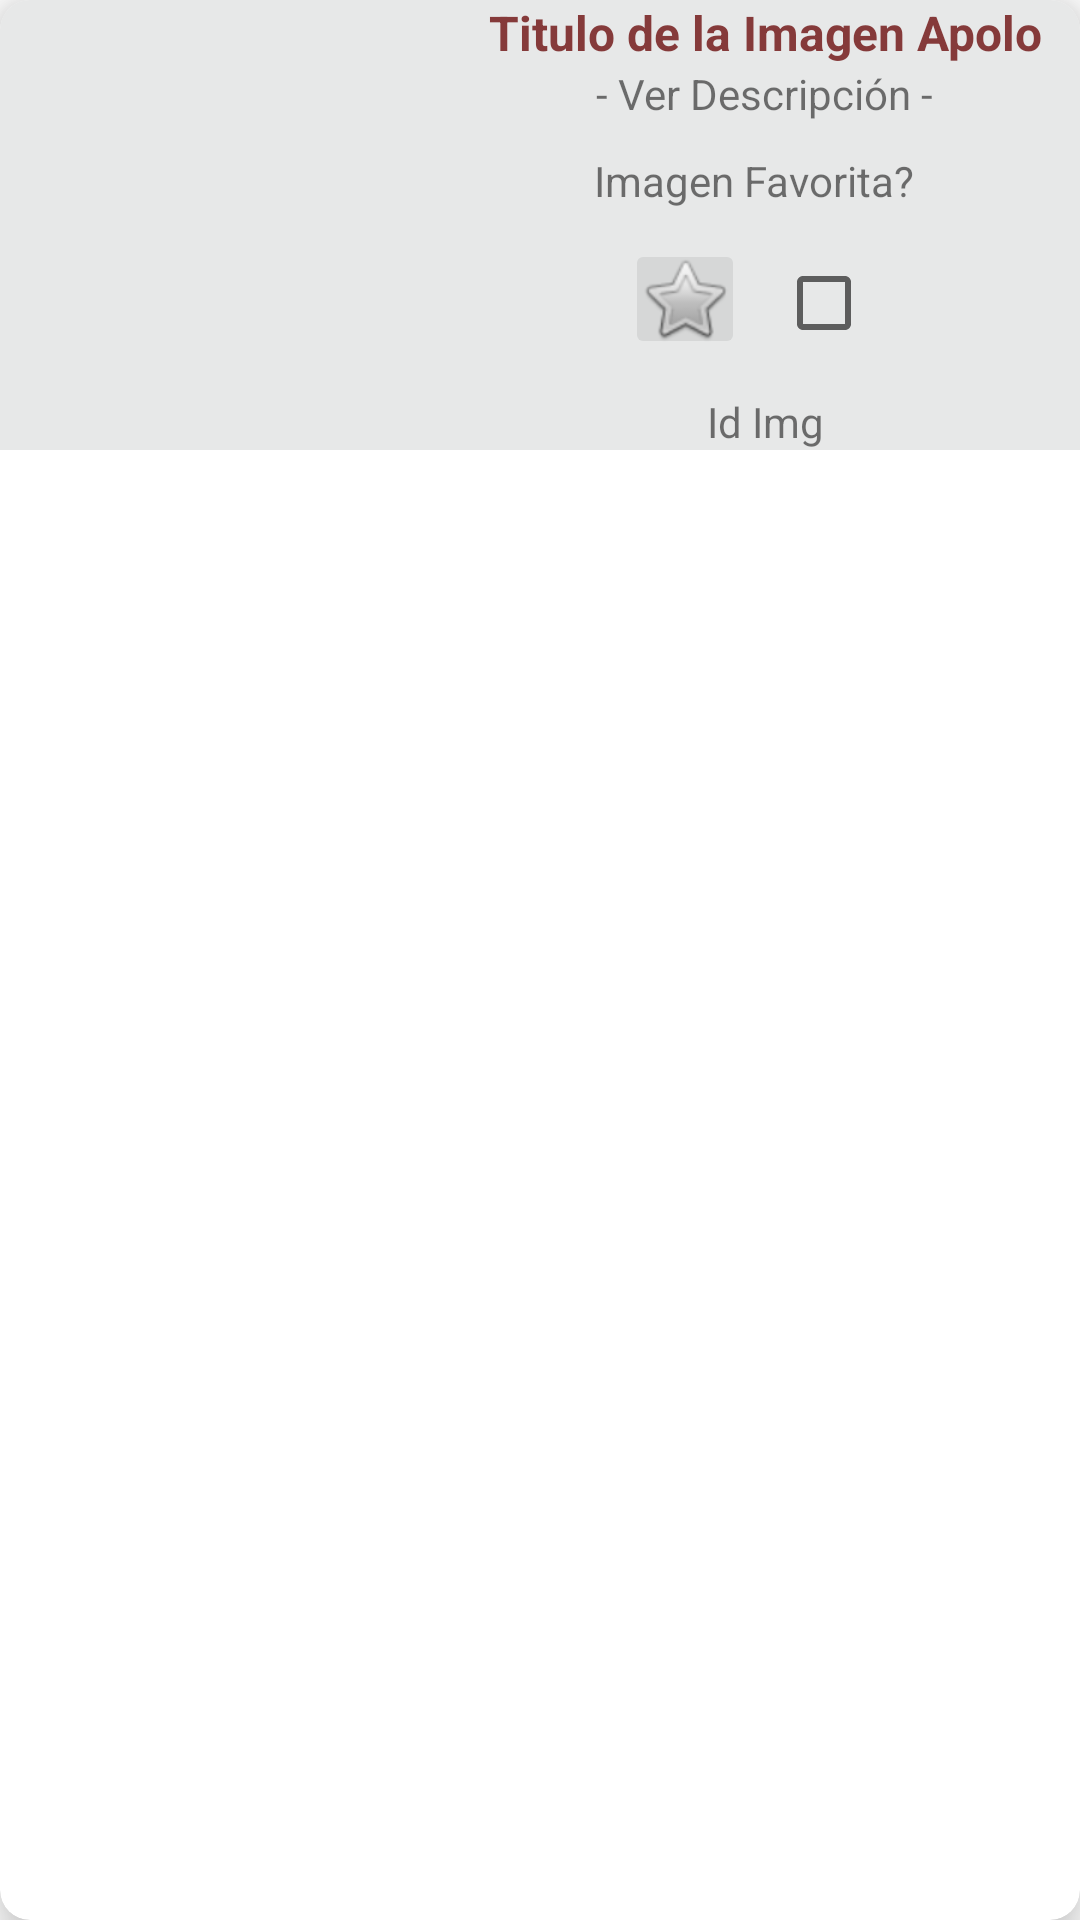

Where to tap for icons on this 1080px x 1920px app screen, as (x,y):
star: (685,299)
